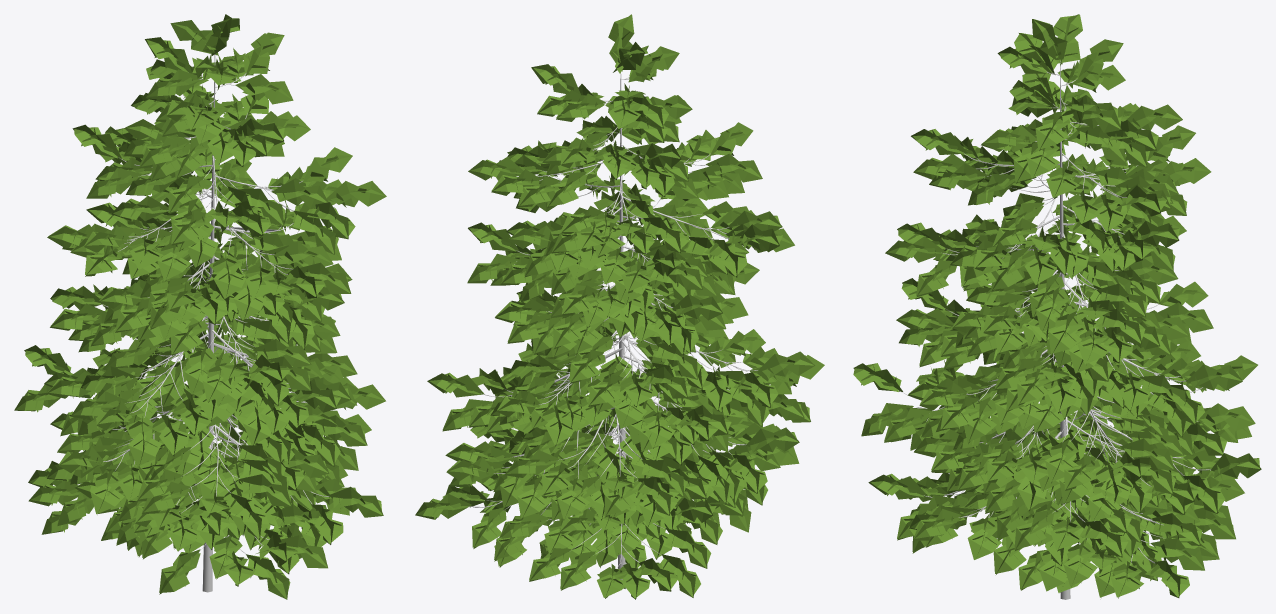
Rendered from Tree.fbx.
The picture shows the model from 3 angles, left to right: view 1: azimuth 30°, elevation 25°; view 2: azimuth 150°, elevation 25°; view 3: azimuth 270°, elevation 25°; orthographic projection. The views are drawn at different scales.
Visible parts, largest first — view 1: Tree_Picea-abies_B_spring-summer-autumn; view 2: Tree_Picea-abies_B_spring-summer-autumn; view 3: Tree_Picea-abies_B_spring-summer-autumn.
Boxes of the visible parts, x1,y1,x2,y2 form: Tree_Picea-abies_B_spring-summer-autumn: (14, 14, 386, 599); Tree_Picea-abies_B_spring-summer-autumn: (415, 14, 824, 599); Tree_Picea-abies_B_spring-summer-autumn: (853, 14, 1261, 599).
Bounding box in the file's own units: 239 × 399 × 254.
